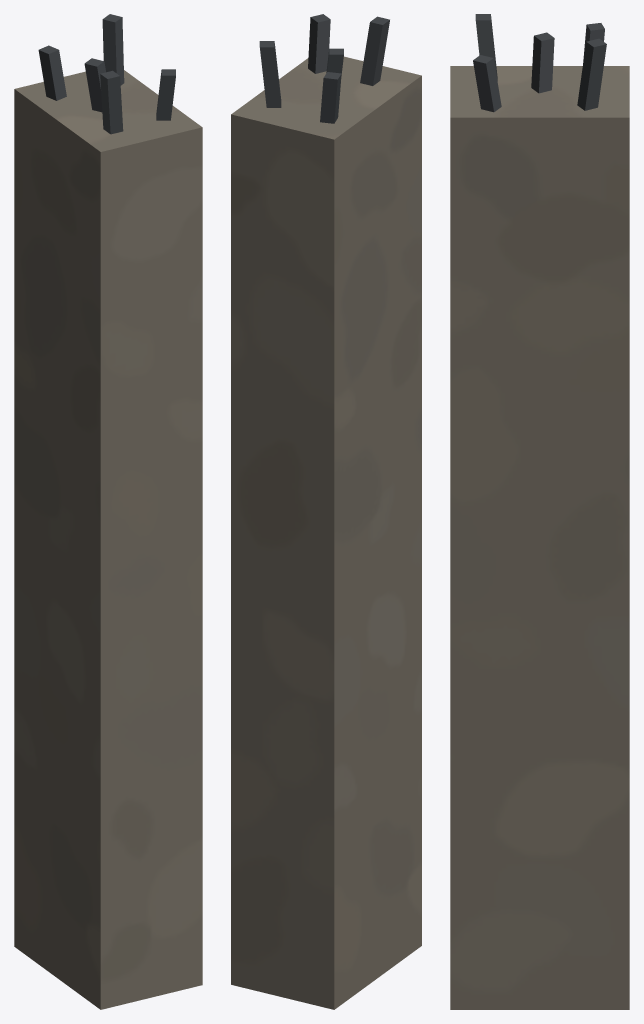
Rendered from Column_A1.fbx.
3 views of the same model, side by side, from view 1: azimuth 30°, elevation 25°; view 2: azimuth 150°, elevation 25°; view 3: azimuth 270°, elevation 25° (orthographic). The views are drawn at different scales.
Parts seen in each view (by area): view 1: Column_A1; view 2: Column_A1; view 3: Column_A1.
Part boxes in pixels (box(x1,y1,x2,y2)): Column_A1: box(14, 14, 202, 1009); Column_A1: box(231, 14, 421, 1009); Column_A1: box(450, 14, 629, 1009).
Bounding box in the file's own units: 49.65 × 429 × 72.95.
1 material, 1 textured.
